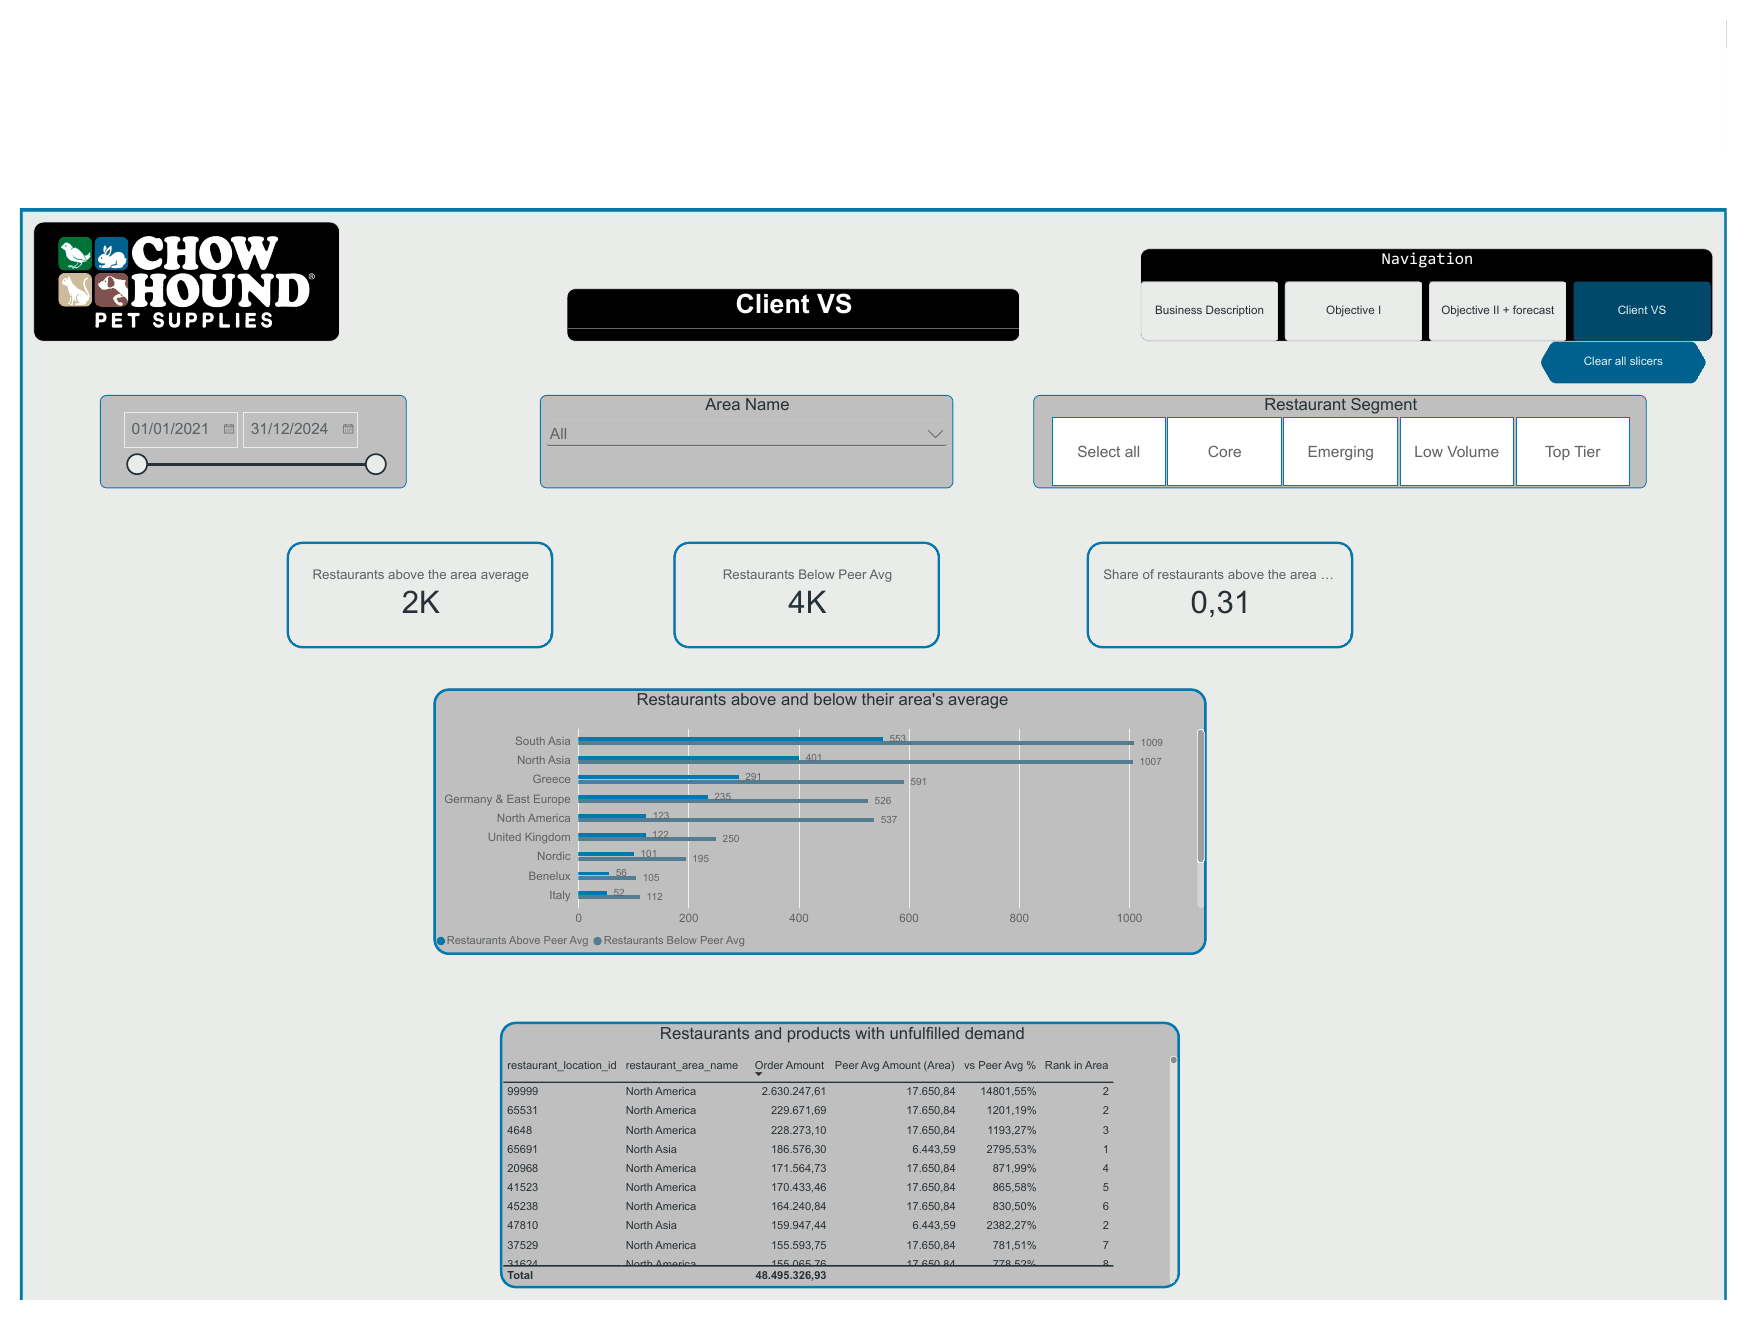

What the dashboard file says about the page in this screenshot:
{"tool":"powerbi","page":{"name":"Client VS","canvas":[2048,1536],"ordinal":3},"visuals":[{"type":"pageNavigator","title":"Navigation","box":[1344,48,688,112],"z":0},{"type":"image","box":[16,16,368,144],"z":1000},{"type":"textbox","title":"Client VS","box":[656,96,544,64],"z":2000},{"type":"actionButton","box":[1824,160,200,50],"z":3000},{"type":"slicer","title":"Area Name","fields":{"Values":["dim_restaurant.restaurant_area_name"]},"box":[624,224,496,112],"z":4000},{"type":"slicer","fields":{"Values":["dim_date.date"]},"box":[96,224,368,112],"z":5000},{"type":"slicer","title":"Restaurant Segment","fields":{"Values":["dim_restaurant.restaurant_segment"]},"box":[1216,224,736,112],"z":6000},{"type":"tableEx","title":"Restaurants and products with unfulfilled demand","fields":{"Values":["dim_restaurant.restaurant_location_id","dim_restaurant.restaurant_area_name","Metrics.Order Amount","Metrics.Peer Avg Amount (Area)","Metrics.vs Peer Avg %","Metrics.Rank in Area"]},"box":[576,976,816,320],"z":7000},{"type":"cardVisual","fields":{"Data":["Metrics.Restaurants Above Peer Avg"]},"box":[320,400,320,128],"z":8000},{"type":"clusteredBarChart","title":"Restaurants above and below their area''s average","fields":{"Category":["dim_restaurant.restaurant_area_name"],"Y":["Metrics.Restaurants Above Peer Avg","Metrics.Restaurants Below Peer Avg"]},"box":[496,576,928,320],"z":9000},{"type":"cardVisual","fields":{"Data":["Metrics.Restaurants Below Peer Avg"]},"box":[784,400,320,128],"z":10000},{"type":"cardVisual","fields":{"Data":["Metrics.Share Above Peer Avg"]},"box":[1280,400,320,128],"z":11000}]}

Visuals, with their boxes in screenshot pixels (x1, y1, x2, y2), scaled from the page's 2048x1536 canvas onto the 1747x1320 screenshot:
"Navigation" pageNavigator: l=1146, t=41, r=1733, b=138
image: l=14, t=14, r=328, b=138
"Client VS" textbox: l=560, t=82, r=1024, b=138
actionButton: l=1556, t=138, r=1727, b=180
"Area Name" slicer: l=532, t=192, r=955, b=289
slicer - dim_date.date: l=82, t=192, r=396, b=289
"Restaurant Segment" slicer: l=1037, t=192, r=1665, b=289
"Restaurants and products with unfulfilled demand" tableEx: l=491, t=839, r=1187, b=1114
cardVisual - Metrics.Restaurants Above Peer Avg: l=273, t=344, r=546, b=454
"Restaurants above and below their area''s average" clusteredBarChart: l=423, t=495, r=1215, b=770
cardVisual - Metrics.Restaurants Below Peer Avg: l=669, t=344, r=942, b=454
cardVisual - Metrics.Share Above Peer Avg: l=1092, t=344, r=1365, b=454
